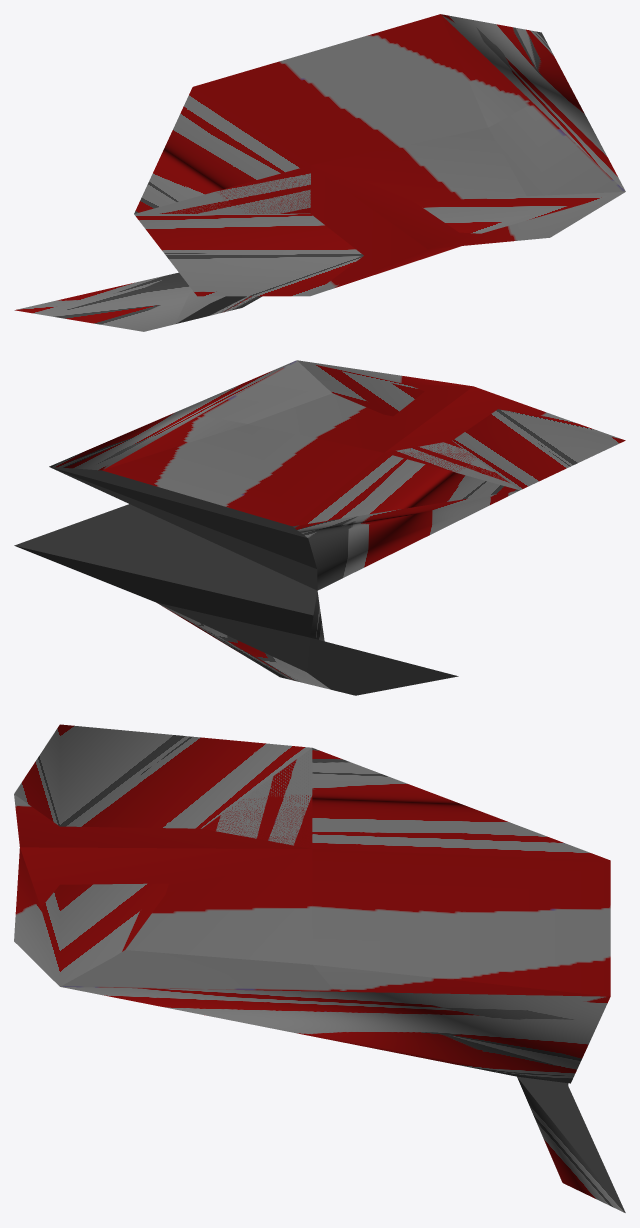
The model's file is enemyFighterBreak05.obj.
3 views of the same model, one above another, from view 1: azimuth 30°, elevation 25°; view 2: azimuth 150°, elevation 25°; view 3: azimuth 270°, elevation 25° (orthographic). The views are drawn at different scales.
Visible parts, largest first — view 1: Cube.001; view 2: Cube.001; view 3: Cube.001.
Boxes of the visible parts, x1=… form: Cube.001: x1=14, y1=14, x2=625, y2=331; Cube.001: x1=14, y1=360, x2=625, y2=695; Cube.001: x1=14, y1=724, x2=625, y2=1212.
Bounding box in the file's own units: 1.69 × 0.6471 × 1.25.
Materials: 1 (1 with a texture image).
